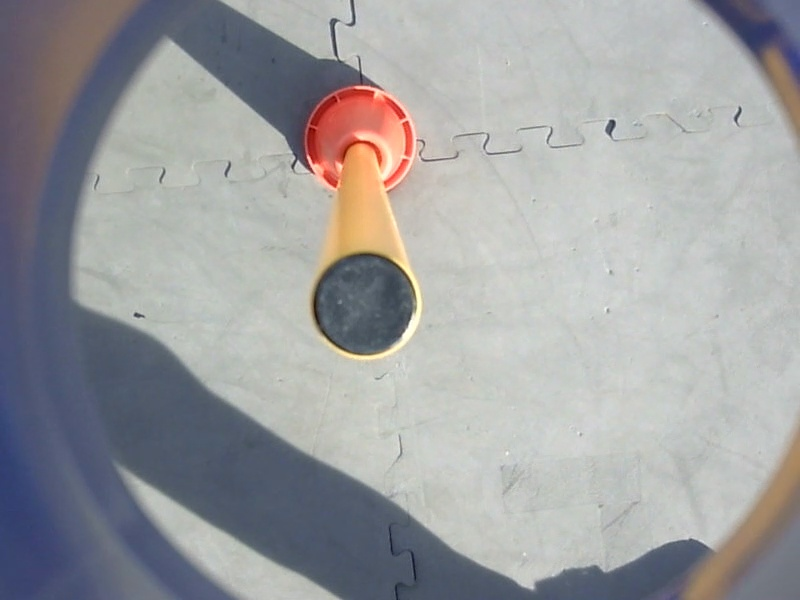tip: (306, 244, 427, 366)
